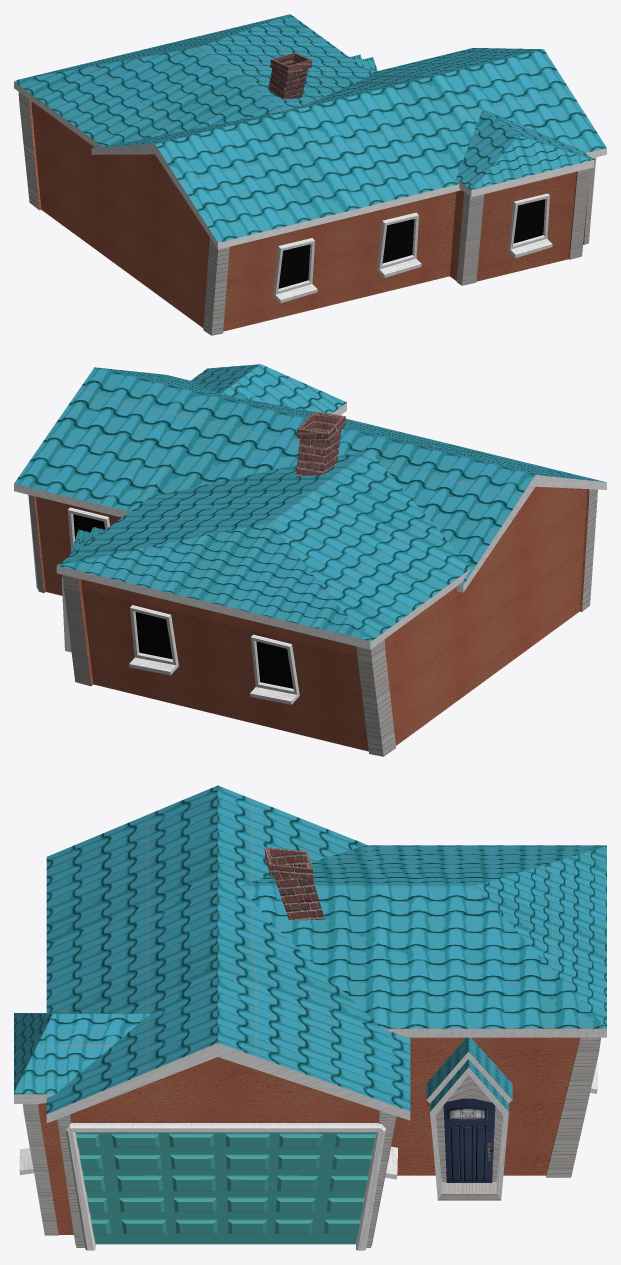
The model's file is HouseBackgroundPropModelOrange .fbx.
3 views of the same model, one above another, from view 1: azimuth 30°, elevation 25°; view 2: azimuth 150°, elevation 25°; view 3: azimuth 270°, elevation 25° (orthographic). The views are drawn at different scales.
Visible parts, largest first — view 1: Main Building2, Roof2.001, Roof.001, roof3.001, window.002, window.003, window.001, Chimney.001; view 2: Main Building2, Roof.001, Roof2.001, roof3.001, window (×2), Window, Chimney.001; view 3: Roof2.001, Main Building2, Roof.001, roof3.001, Garageedge, door.001, Entrance.001, Chimney.001, Entrance.Roof.002, Entrance.Roof.001.
Part boxes in pixels (bbox=[...]): Main Building2: bbox=[18, 92, 595, 335]; Roof2.001: bbox=[91, 48, 606, 249]; Roof.001: bbox=[14, 14, 372, 147]; roof3.001: bbox=[456, 109, 594, 197]; window.002: bbox=[273, 238, 317, 303]; window.003: bbox=[377, 212, 421, 277]; window.001: bbox=[508, 193, 552, 257]; Chimney.001: bbox=[268, 52, 312, 99]; Main Building2: bbox=[28, 477, 597, 756]; Roof.001: bbox=[56, 450, 471, 649]; Roof2.001: bbox=[14, 367, 606, 592]; roof3.001: bbox=[190, 364, 346, 415]; window (×2): bbox=[67, 507, 178, 675]; Window: bbox=[250, 634, 299, 704]; Chimney.001: bbox=[296, 411, 345, 476]; Roof2.001: bbox=[46, 785, 410, 1123]; Main Building2: bbox=[23, 862, 600, 1247]; Roof.001: bbox=[239, 845, 606, 1037]; roof3.001: bbox=[14, 1013, 149, 1103]; Garageedge: bbox=[65, 1123, 385, 1250]; door.001: bbox=[443, 1098, 495, 1182]; Entrance.001: bbox=[430, 1075, 508, 1200]; Chimney.001: bbox=[264, 847, 324, 920]; Entrance.Roof.002: bbox=[426, 1037, 512, 1103]; Entrance.Roof.001: bbox=[430, 1059, 508, 1115].
Bounding box in the file's own units: 632 × 615 × 283.
